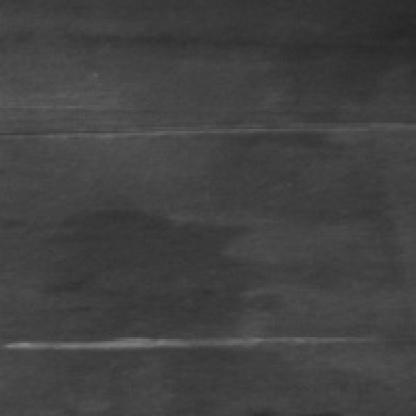scratches: (2, 324, 372, 354)
